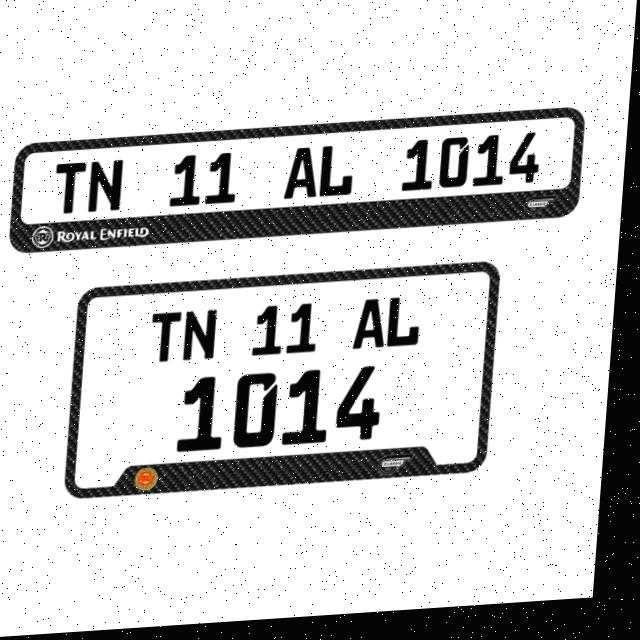plate: (73, 268, 508, 503), (8, 114, 588, 253)
